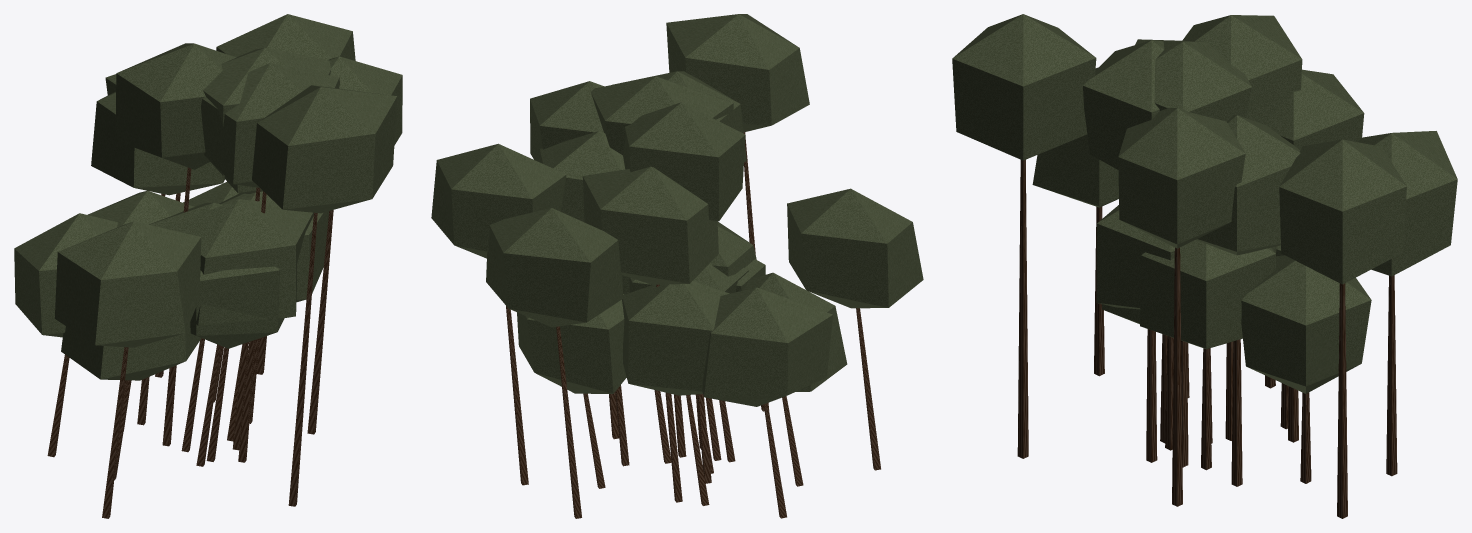
The model's file is desert_scrub_01.fbx.
3 renders of one model, left to right at view 1: azimuth 30°, elevation 25°; view 2: azimuth 150°, elevation 25°; view 3: azimuth 270°, elevation 25°, orthographic. The views are drawn at different scales.
Parts seen in each view (by area): view 1: desert_scrub_01_LOD0; view 2: desert_scrub_01_LOD0; view 3: desert_scrub_01_LOD0.
Boxes of the visible parts, box(x1,y1,x2,y2) form: desert_scrub_01_LOD0: box(14, 14, 402, 518); desert_scrub_01_LOD0: box(431, 14, 923, 518); desert_scrub_01_LOD0: box(952, 14, 1457, 518).
Size of what is drawn, in the model's own units: 1 by 1 by 1.
